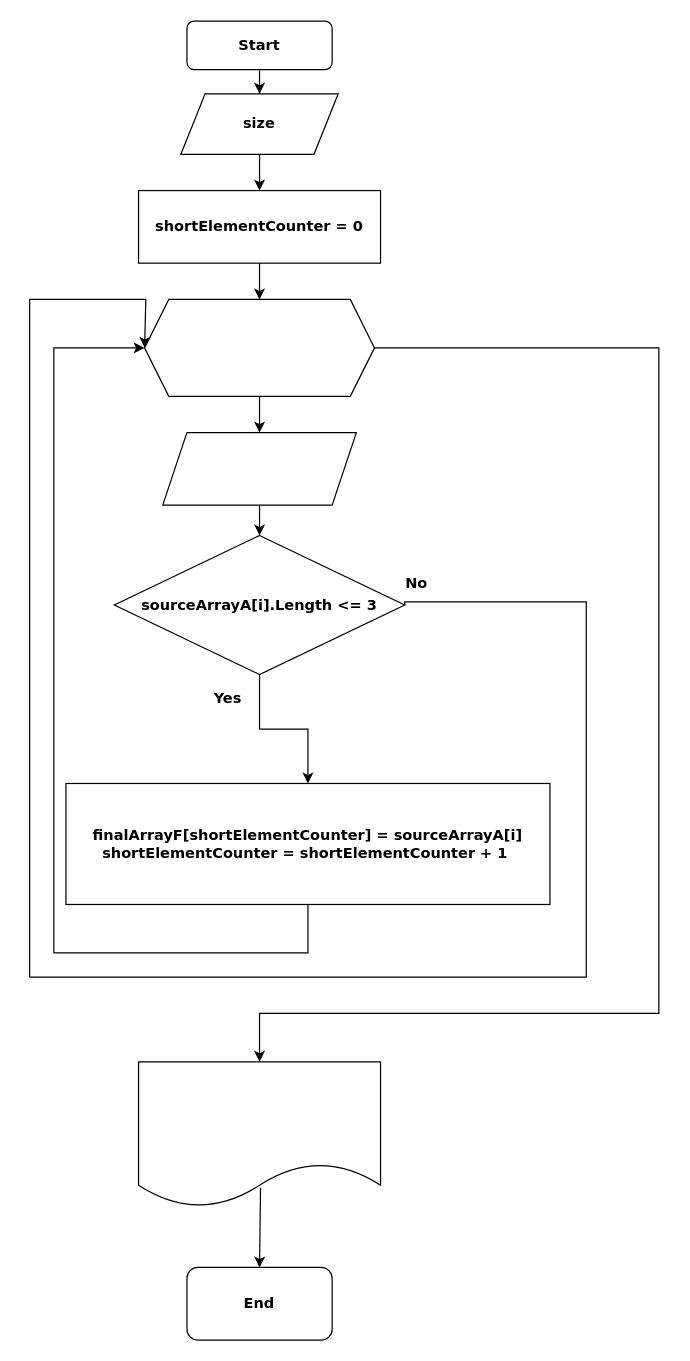
Image size: 690x1361. Some labels were removed from this diagram. The shapes that lost their labels are listed below. From the top down, each one's centre as x and y in pixels, then its label:
(x=258, y=347): i = 0; i < size; 1
(x=259, y=468): sourceArrayA[i]
(x=259, y=1134): sourceArrayA[ ] finalArrayF[ ]
